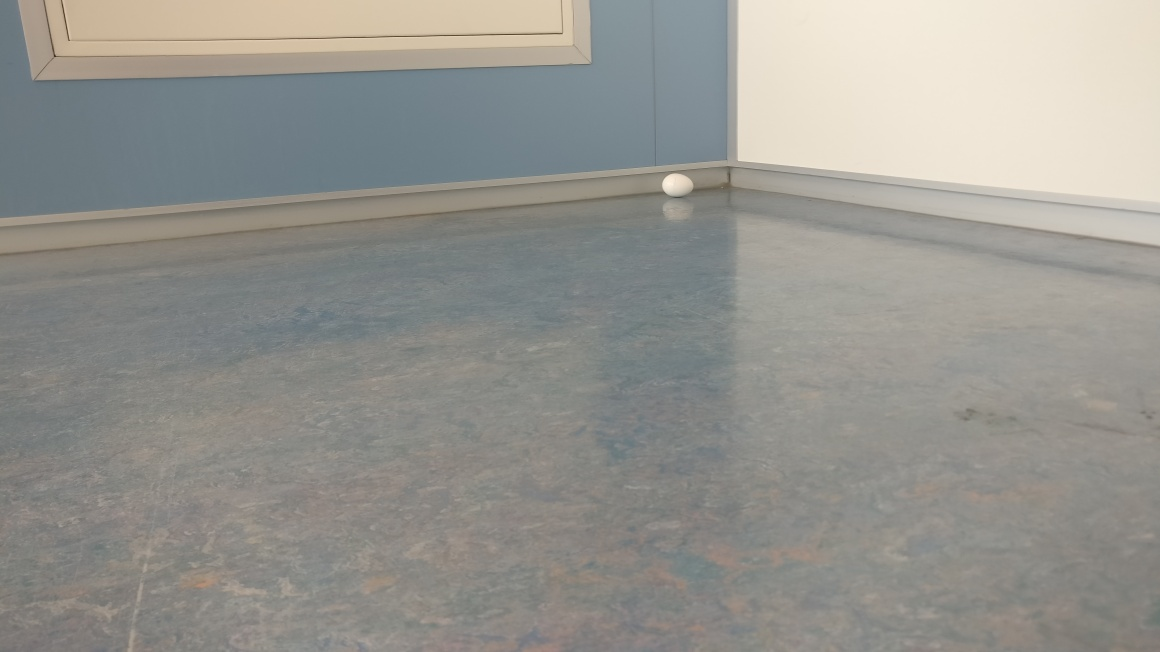egg: (660, 171, 693, 197)
